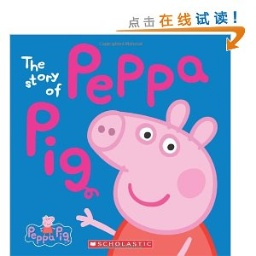Peppa: (76, 97, 217, 256), (39, 214, 57, 236)
